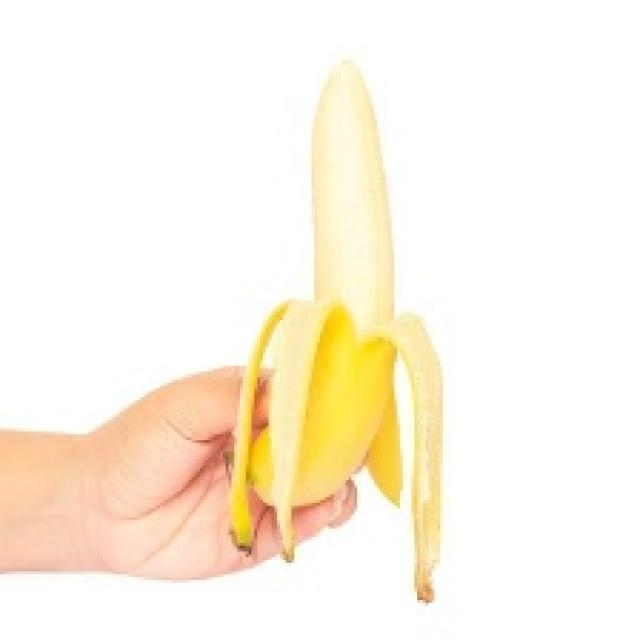Banana: (223, 57, 443, 603)
